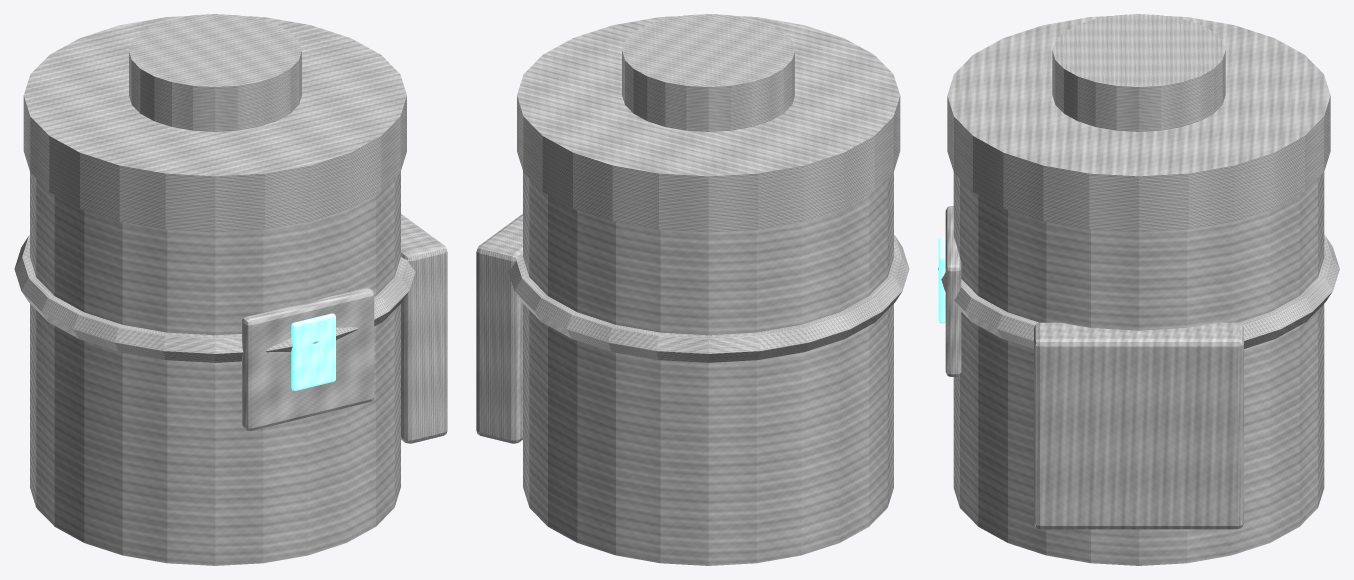
File: item-packaged-ionized-fuel_variant_b.glb
The picture shows the model from 3 angles, left to right: view 1: azimuth 30°, elevation 25°; view 2: azimuth 150°, elevation 25°; view 3: azimuth 270°, elevation 25°; orthographic projection.
Visible parts, largest first — view 1: Container shell.002, Container top.002, Container cap.002, Fluid label.001, Variant reinforcement, Container seam.002, Fill window.001; view 2: Container shell.002, Container top.002, Container cap.002, Container seam.002, Variant reinforcement; view 3: Container shell.002, Container top.002, Variant reinforcement, Container cap.002, Container seam.002, Fluid label.001, Fill window.001.
Boxes of the visible parts, bbox=[...] form: Container shell.002: bbox=[30, 171, 400, 565]; Container top.002: bbox=[23, 16, 406, 232]; Container cap.002: bbox=[129, 14, 301, 131]; Fluid label.001: bbox=[242, 287, 374, 430]; Variant reinforcement: bbox=[401, 214, 447, 443]; Container seam.002: bbox=[14, 235, 415, 362]; Fill window.001: bbox=[291, 313, 335, 390]; Container shell.002: bbox=[523, 171, 893, 565]; Container top.002: bbox=[517, 16, 900, 232]; Container cap.002: bbox=[622, 14, 794, 131]; Container seam.002: bbox=[508, 235, 909, 362]; Variant reinforcement: bbox=[476, 214, 522, 443]; Container shell.002: bbox=[953, 172, 1324, 565]; Container top.002: bbox=[947, 16, 1330, 232]; Variant reinforcement: bbox=[1034, 322, 1243, 529]; Container cap.002: bbox=[1052, 14, 1225, 131]; Container seam.002: bbox=[938, 235, 1339, 348]; Fluid label.001: bbox=[945, 206, 961, 376]; Fill window.001: bbox=[938, 237, 945, 323].
Size of what is drawn, in the model's own units: 0.665 by 0.78 by 0.65.
6 materials, 6 textured.
